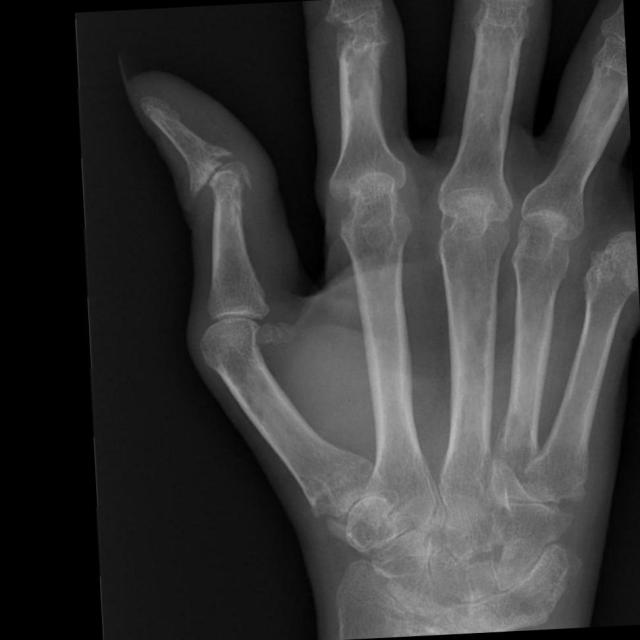Greenstick: (310, 5, 384, 62)
Transverse Displaced: (179, 127, 271, 212)
